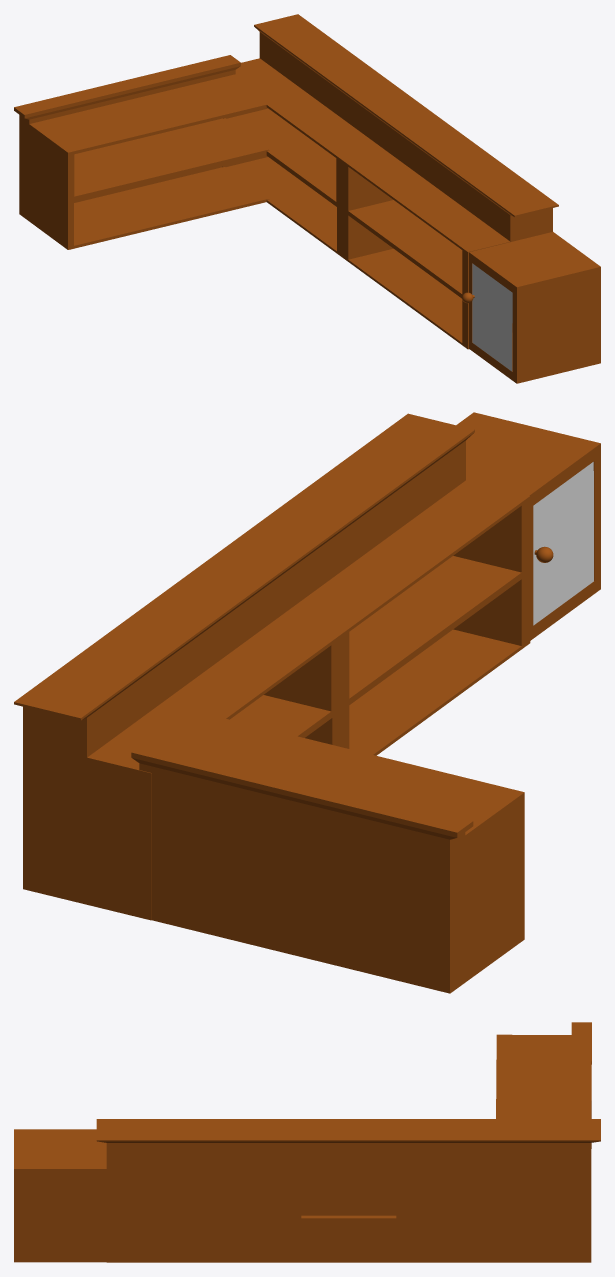
Rendered from Bar1.2.fbx.
The picture shows the model from 3 angles, top to bottom: view 1: azimuth 30°, elevation 25°; view 2: azimuth 150°, elevation 25°; view 3: azimuth 270°, elevation 25°; orthographic projection. The views are drawn at different scales.
Visible parts, largest first — view 1: Plane.001; view 2: Plane.001; view 3: Plane.001.
Boxes of the visible parts, x1,y1,x2,y2 form: Plane.001: (14,14,600,383); Plane.001: (14,412,600,993); Plane.001: (14,1022,600,1262).
Size of the model in its own units: 692 by 286 by 1236.
